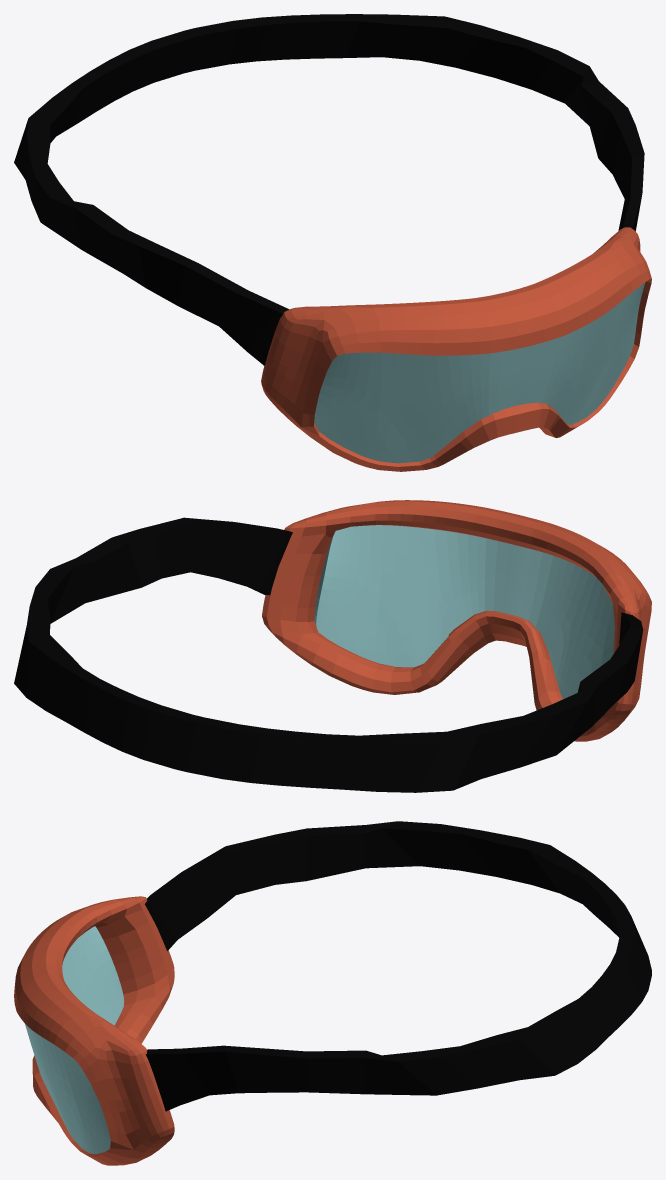
File: Goggles_Girl.fbx
3 views of the same model, one above another, from view 1: azimuth 30°, elevation 25°; view 2: azimuth 150°, elevation 25°; view 3: azimuth 270°, elevation 25° (orthographic). The views are drawn at different scales.
Parts seen in each view (by area): view 1: Goggles; view 2: Goggles; view 3: Goggles.
Boxes of the visible parts, x1,y1,x2,y2 form: Goggles: (14,14,651,471); Goggles: (14,500,651,792); Goggles: (14,821,651,1165).
Size of the model in its own units: 61.19 by 22.18 by 68.6.
Materials: 1 (1 with a texture image).
